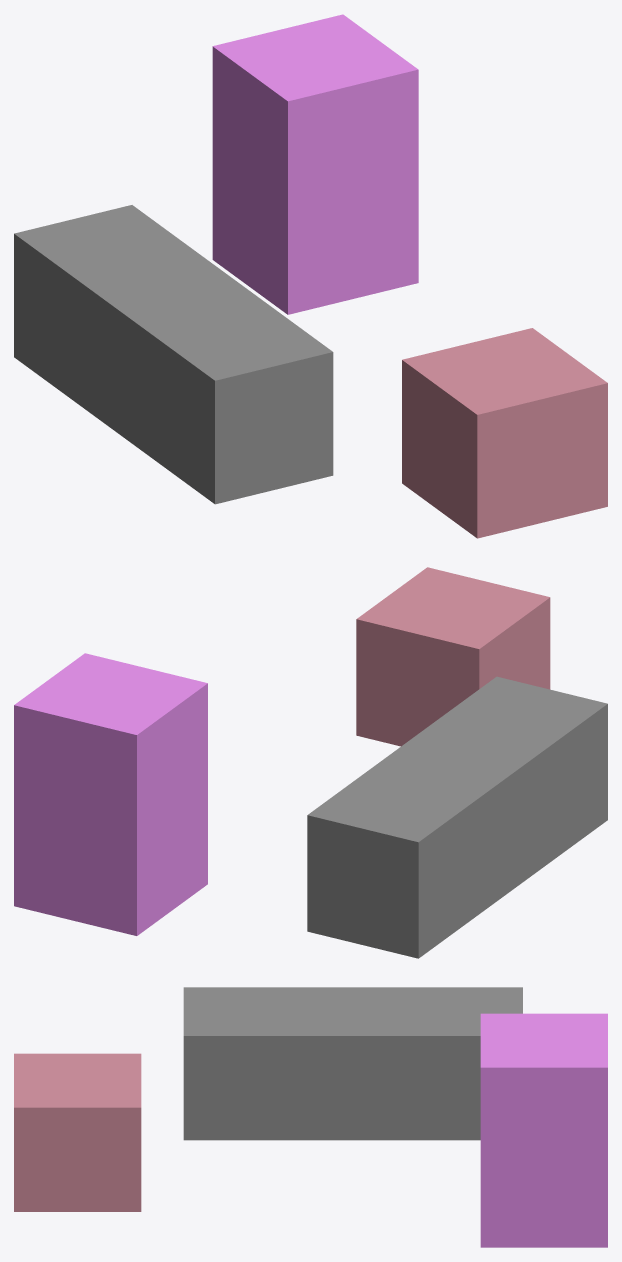
Rendered from Boxes.FBX.
The picture shows the model from 3 angles, top to bottom: view 1: azimuth 30°, elevation 25°; view 2: azimuth 150°, elevation 25°; view 3: azimuth 270°, elevation 25°; orthographic projection. The views are drawn at different scales.
Visible parts, largest first — view 1: Box_Long, Box_MediumLong, Box_Medium; view 2: Box_Long, Box_MediumLong, Box_Medium; view 3: Box_Long, Box_MediumLong, Box_Medium.
Part boxes in pixels (x1=…): Box_Long: x1=14, y1=205, x2=333, y2=504; Box_MediumLong: x1=212, y1=14, x2=418, y2=314; Box_Medium: x1=402, y1=328, x2=607, y2=538; Box_Long: x1=307, y1=676, x2=607, y2=958; Box_MediumLong: x1=14, y1=653, x2=207, y2=935; Box_Medium: x1=356, y1=567, x2=550, y2=746; Box_Long: x1=183, y1=987, x2=522, y2=1140; Box_MediumLong: x1=480, y1=1013, x2=607, y2=1247; Box_Medium: x1=14, y1=1053, x2=141, y2=1211.
Size of the model in its own units: 87.14 by 46.86 by 140.
